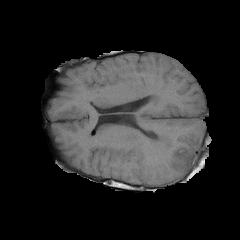glioma: (144, 127, 201, 175)
